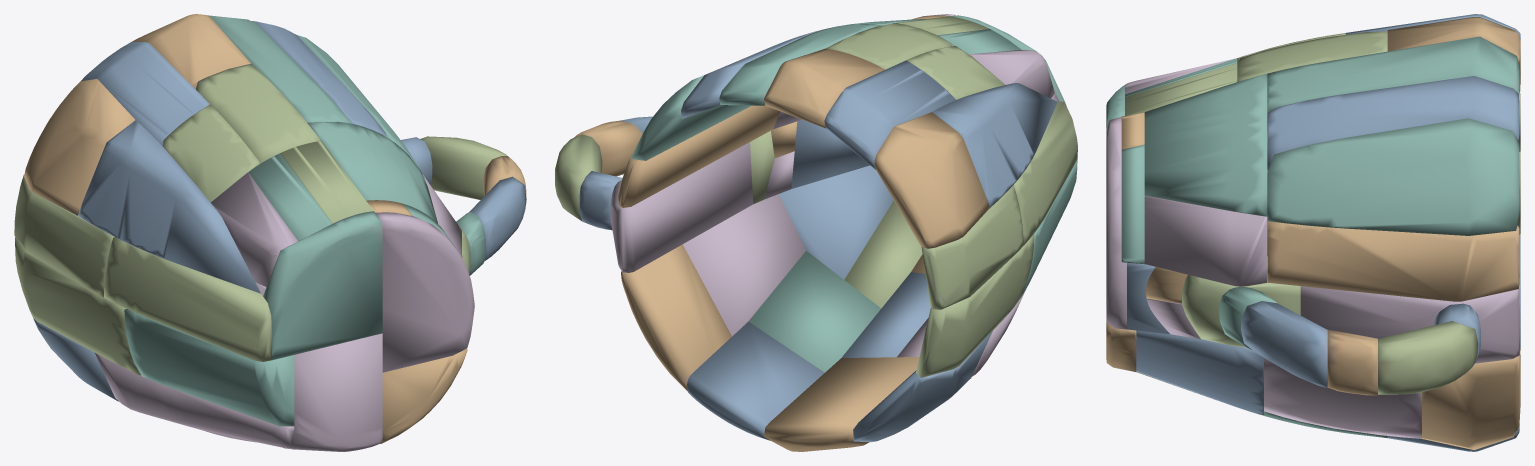
3 views of the same model, side by side, from view 1: azimuth 30°, elevation 25°; view 2: azimuth 150°, elevation 25°; view 3: azimuth 270°, elevation 25° (orthographic). The views are drawn at different scales.
Size of the model in its own units: 1.66 by 1.38 by 1.25.
